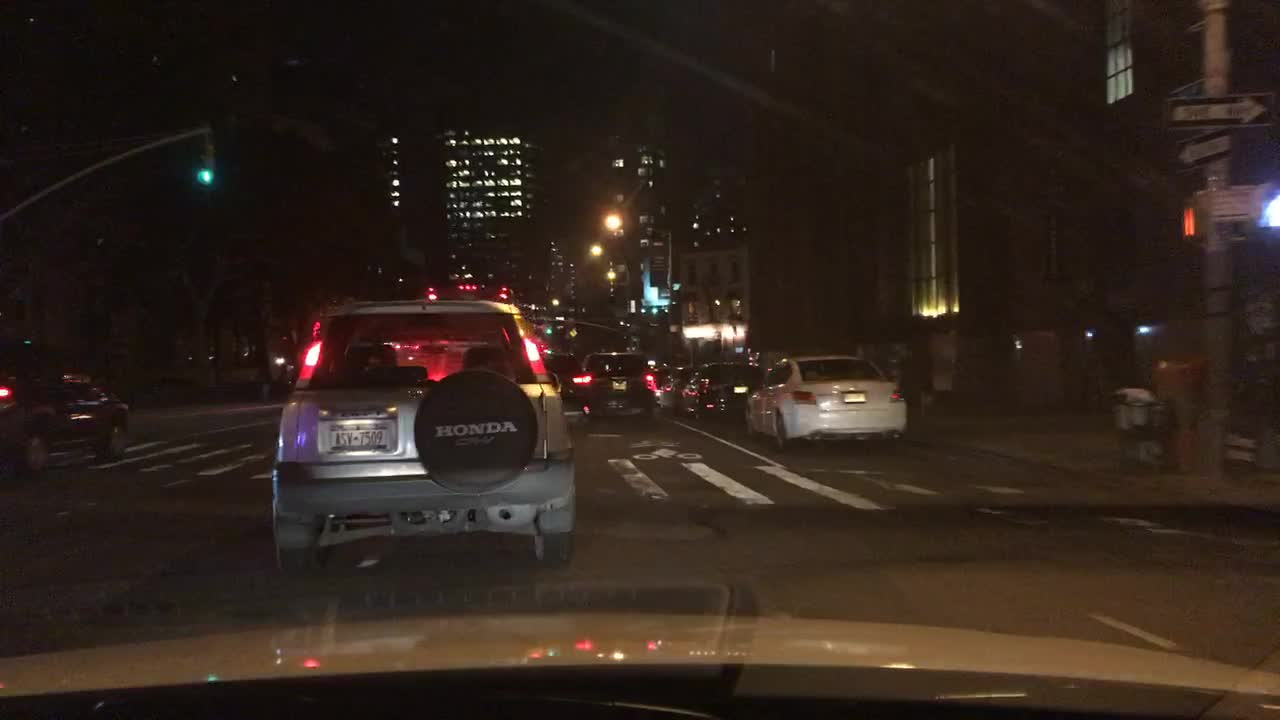car: (266, 292, 584, 573), (0, 338, 130, 474), (742, 351, 910, 452), (579, 348, 657, 422), (677, 359, 764, 422), (541, 350, 591, 419), (655, 366, 695, 410), (648, 360, 672, 388)
traffic light: (1176, 203, 1211, 246), (195, 133, 217, 186)
traffic sign: (1162, 91, 1278, 125), (1190, 182, 1268, 225), (1174, 128, 1238, 167)
